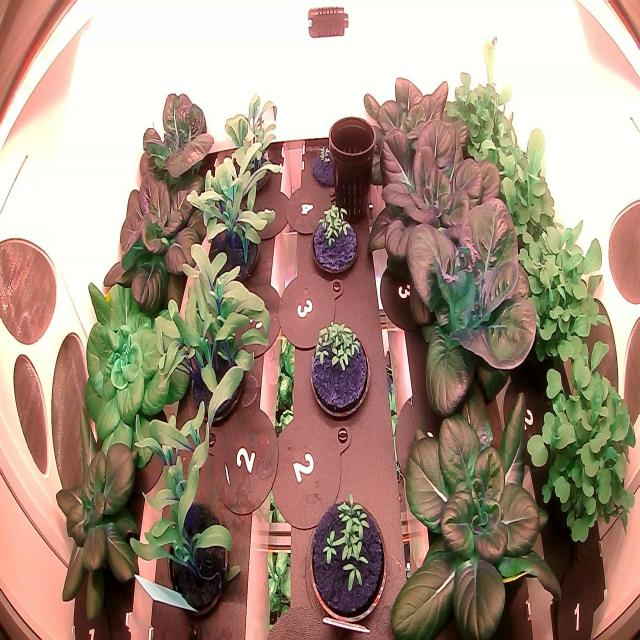germination: (305, 483, 389, 626), (303, 314, 374, 422), (307, 200, 360, 284), (306, 133, 354, 197)
young: (381, 359, 577, 640), (390, 186, 548, 440), (96, 126, 218, 328), (364, 108, 514, 272), (72, 275, 195, 468), (50, 426, 153, 638), (351, 53, 485, 211), (130, 74, 218, 200)
